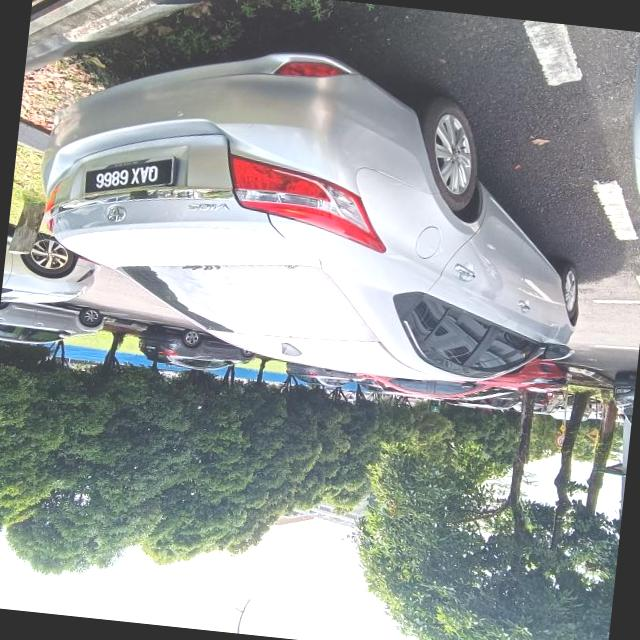ToyotaVios: (21, 25, 604, 399)
